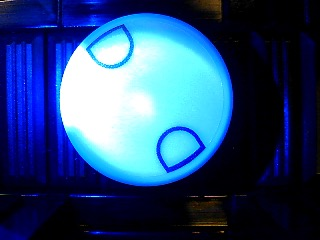MIPO2: (60, 12, 233, 186)
